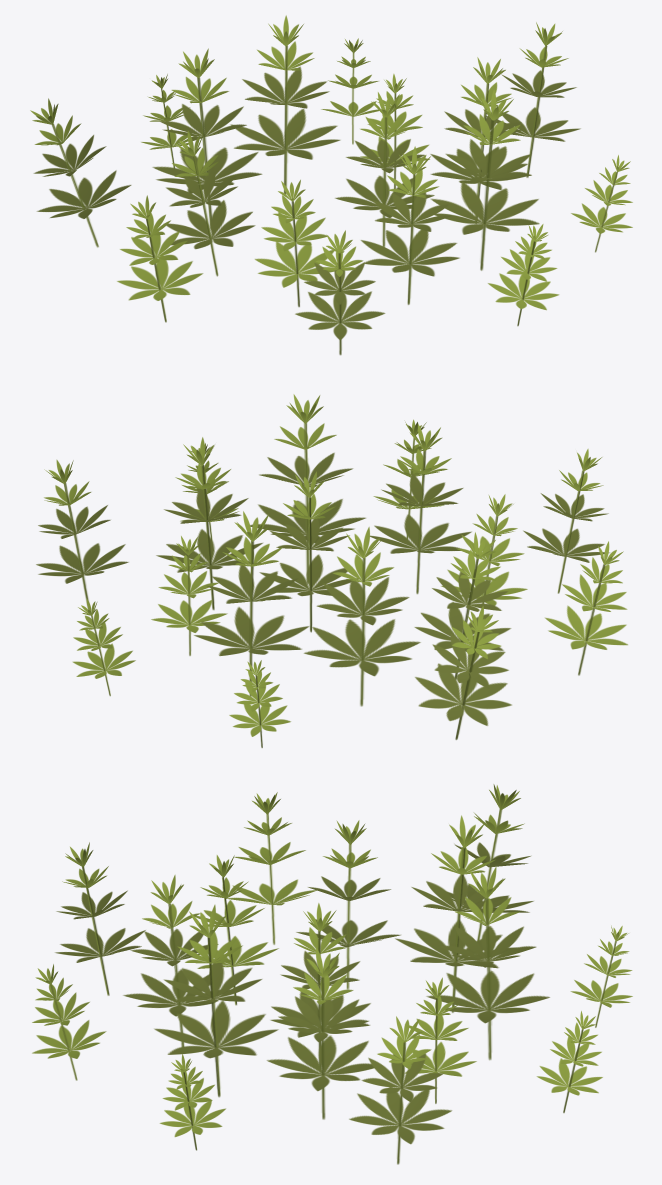
The model's file is Woodruff_Cluster_Leaves_only.glb.
The picture shows the model from 3 angles, top to bottom: view 1: azimuth 30°, elevation 25°; view 2: azimuth 150°, elevation 25°; view 3: azimuth 270°, elevation 25°; orthographic projection. The views are drawn at different scales.
Parts seen in each view (by area): view 1: Woodruff_Cluster_Leaves_only; view 2: Woodruff_Cluster_Leaves_only; view 3: Woodruff_Cluster_Leaves_only.
Part boxes in pixels (x1,y1,x2,y2): Woodruff_Cluster_Leaves_only: [30, 15, 632, 355]; Woodruff_Cluster_Leaves_only: [36, 394, 627, 747]; Woodruff_Cluster_Leaves_only: [32, 784, 632, 1164].
Bounding box in the file's own units: 1.37 × 0.4365 × 1.29.
1 material, 1 textured.
